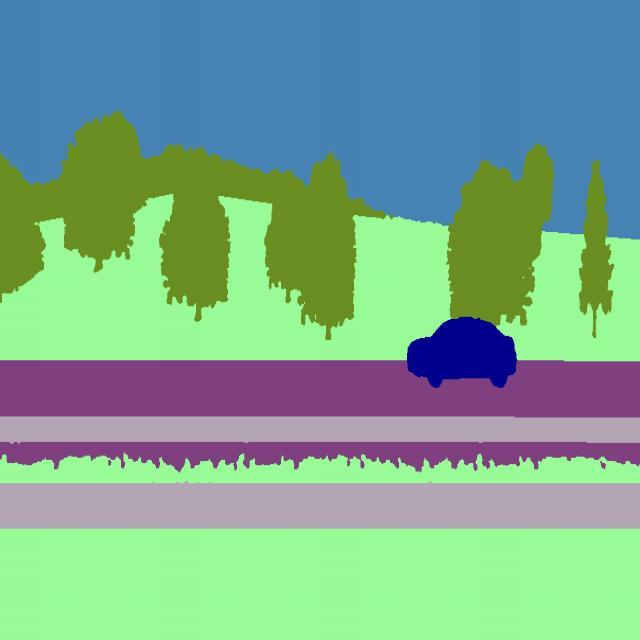safe: (406, 310, 517, 396)
